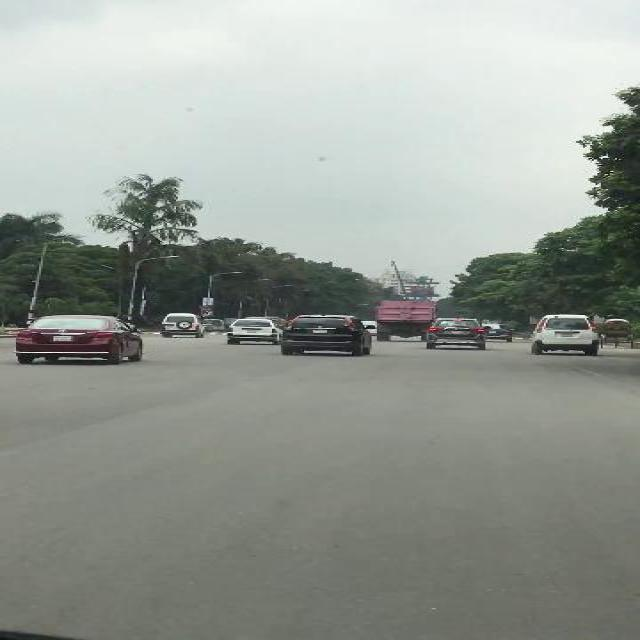vehicle: (13, 314, 145, 366), (281, 313, 375, 357), (529, 313, 600, 357), (374, 301, 428, 344), (425, 317, 491, 351), (225, 320, 278, 347), (160, 313, 208, 340), (598, 319, 634, 351), (490, 323, 515, 343), (203, 320, 226, 332)
